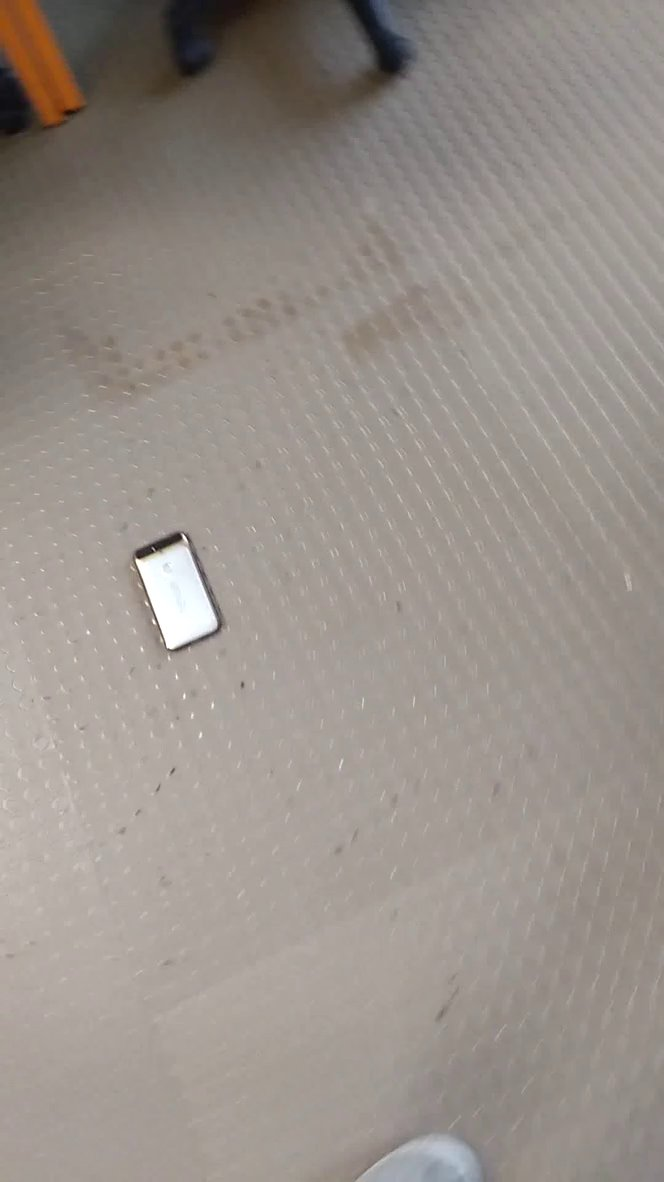phone: (126, 525, 236, 663)
